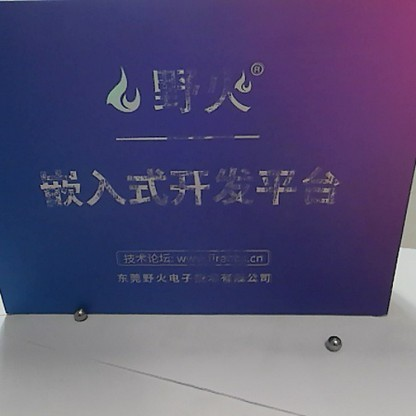ironball: (322, 333, 341, 351), (72, 306, 88, 324)
